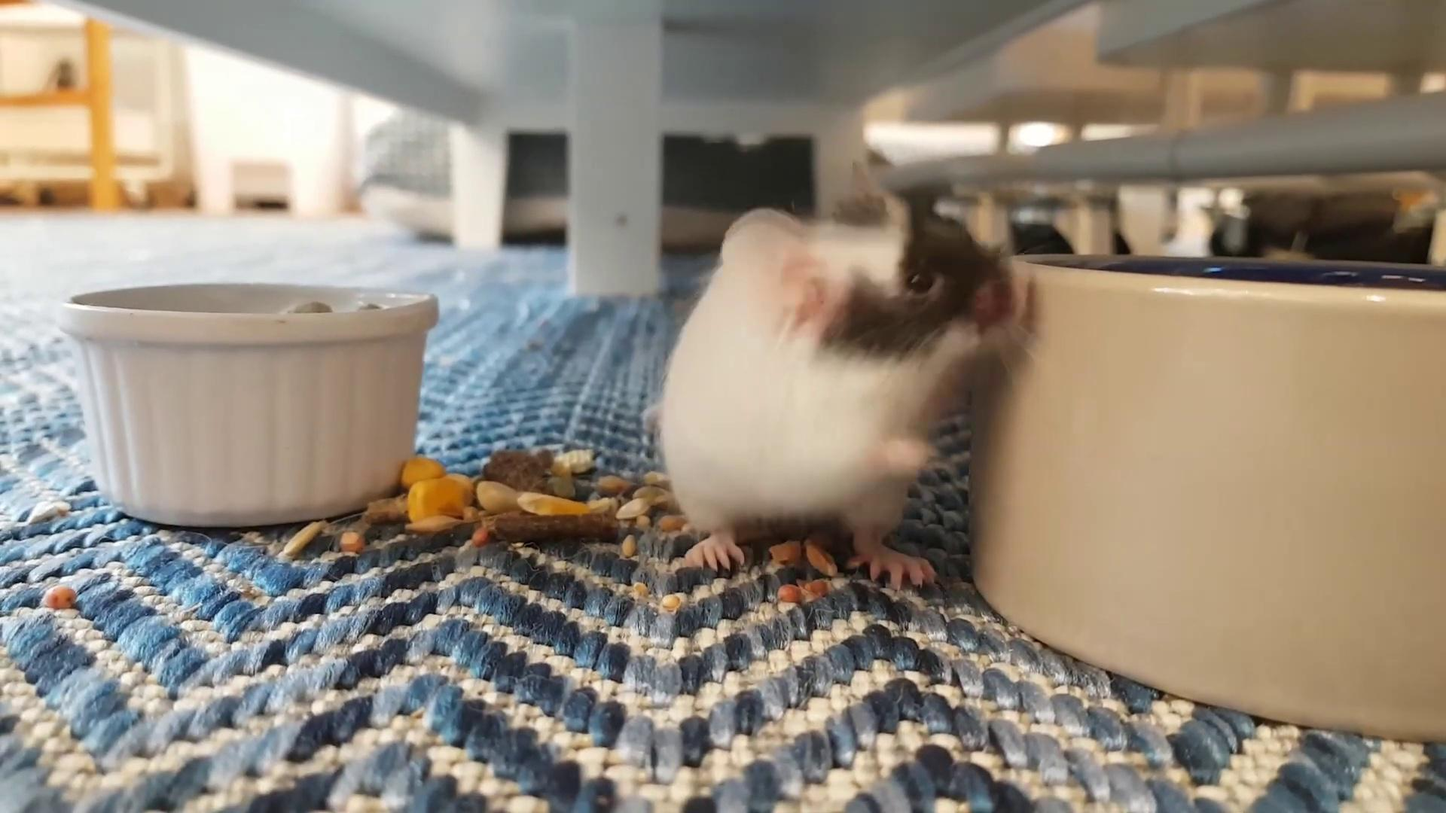rat: (662, 182, 1027, 591)
